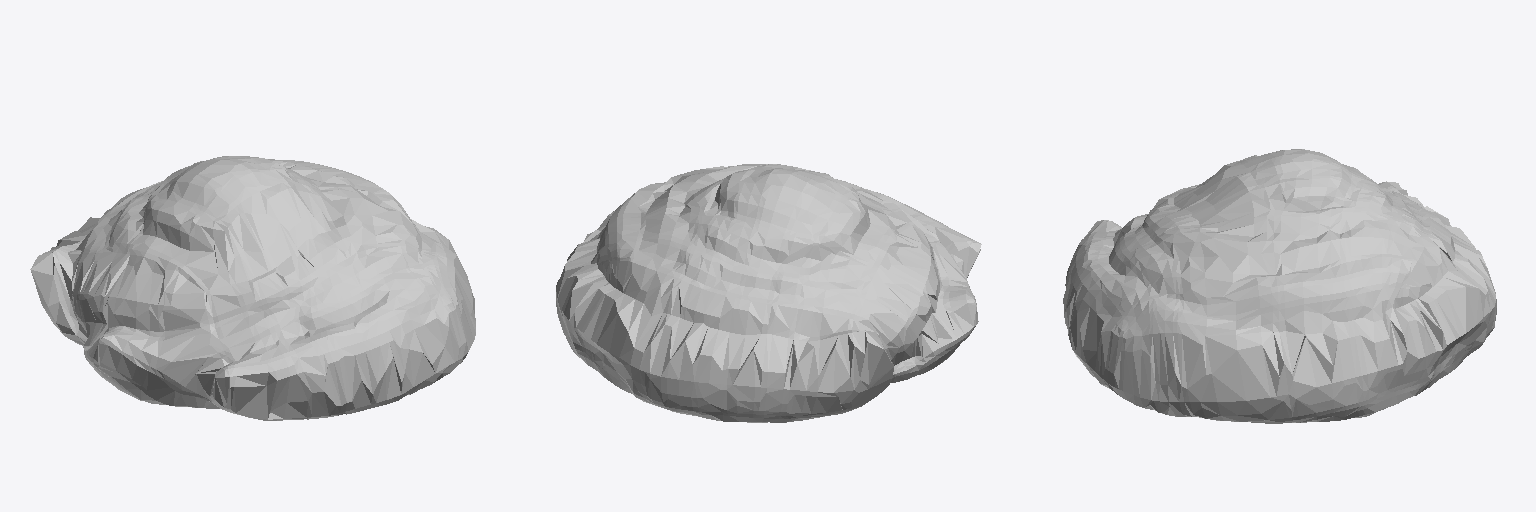
Rendered from cinnamon6.obj.
3 renders of one model, left to right at view 1: azimuth 30°, elevation 25°; view 2: azimuth 150°, elevation 25°; view 3: azimuth 270°, elevation 25°, orthographic.
Visible parts, largest first — view 1: pasted__pasted__polySurface4176 croissant5k29:croissant5k20:Mesh; view 2: pasted__pasted__polySurface4176 croissant5k29:croissant5k20:Mesh; view 3: pasted__pasted__polySurface4176 croissant5k29:croissant5k20:Mesh.
Part boxes in pixels (left/top/right/bottom): pasted__pasted__polySurface4176 croissant5k29:croissant5k20:Mesh: left=30, top=156, right=475, bottom=420; pasted__pasted__polySurface4176 croissant5k29:croissant5k20:Mesh: left=556, top=164, right=981, bottom=422; pasted__pasted__polySurface4176 croissant5k29:croissant5k20:Mesh: left=1063, top=149, right=1496, bottom=423.
Bounding box in the file's own units: 0.173 × 0.0806 × 0.1764.